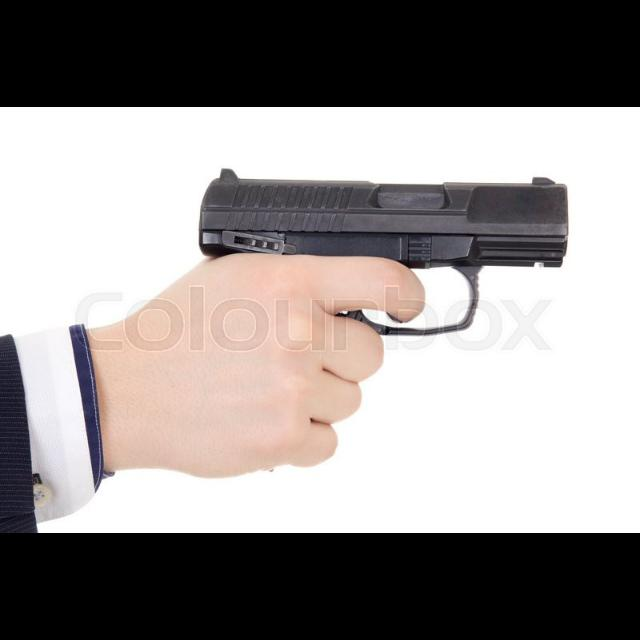handgun: (192, 164, 572, 343)
